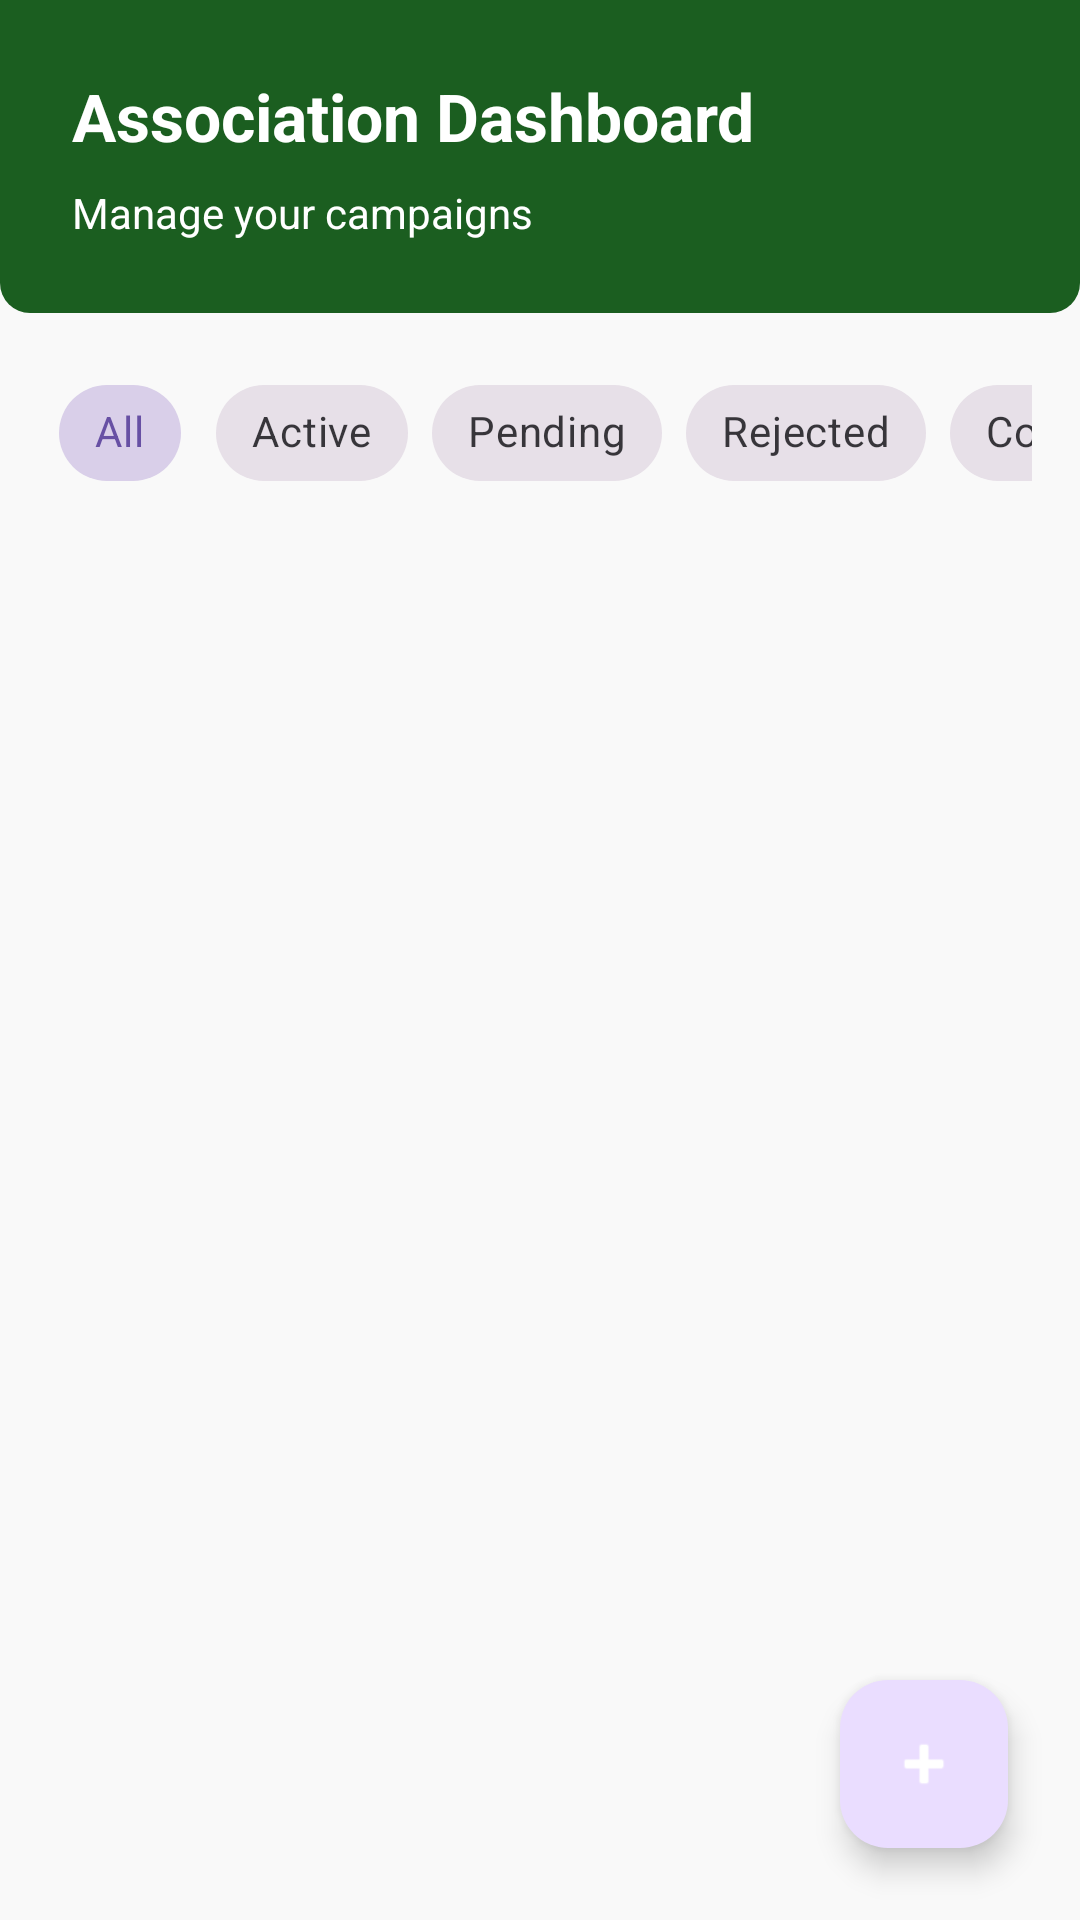

Where icons sit on this 1080×1920 app screen, as (x1, y1, x2, y2):
Create Campaign: (840, 1680, 1008, 1848)
